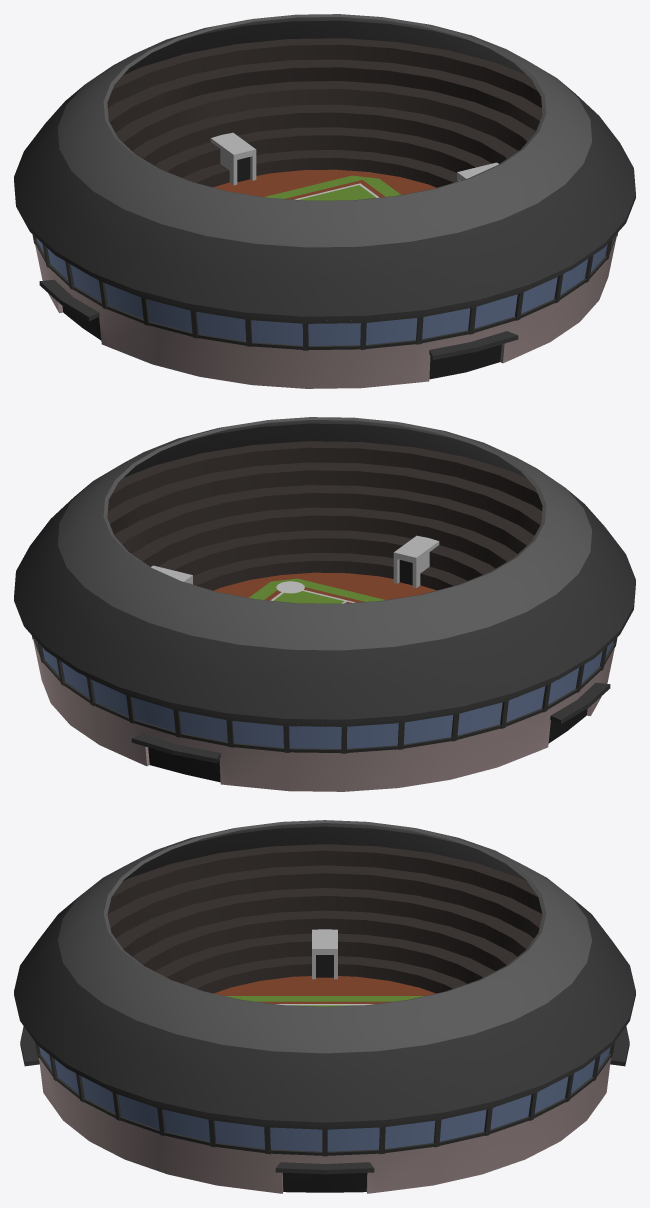
The model's file is BaseballStadium_01.fbx.
3 renders of one model, top to bottom at view 1: azimuth 30°, elevation 25°; view 2: azimuth 150°, elevation 25°; view 3: azimuth 270°, elevation 25°, orthographic.
Visible parts, largest first — view 1: BaseballStadium_01; view 2: BaseballStadium_01; view 3: BaseballStadium_01.
Part boxes in pixels (x1,y1,x2,y2): BaseballStadium_01: (14,14,635,388); BaseballStadium_01: (14,417,635,791); BaseballStadium_01: (14,820,635,1193).
Bounding box in the file's own units: 50.03 × 14.31 × 50.03.
